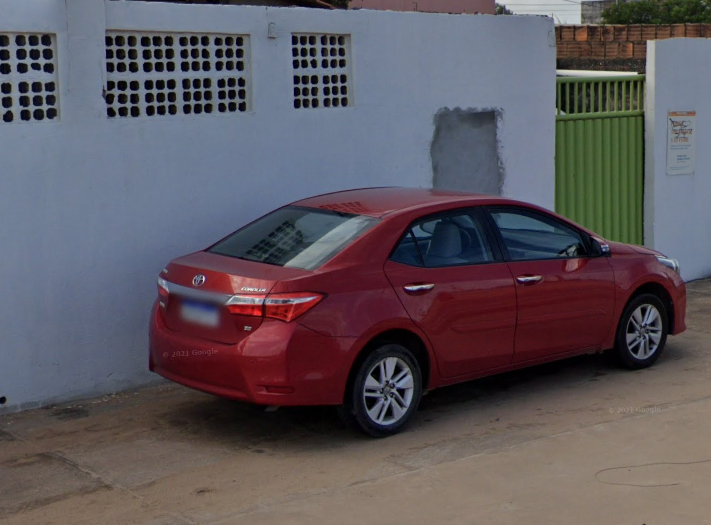car: (144, 184, 690, 444)
